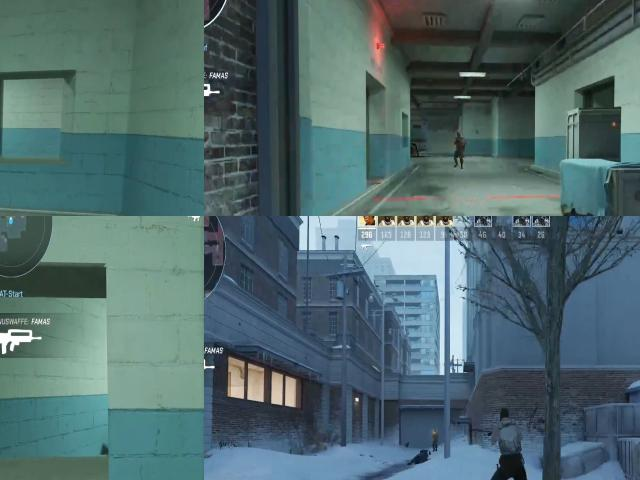CT: (452, 126, 467, 156), (432, 428, 438, 451)
CT-Head: (455, 128, 464, 140)
T: (491, 409, 522, 480)
T-Head: (498, 404, 513, 427)
